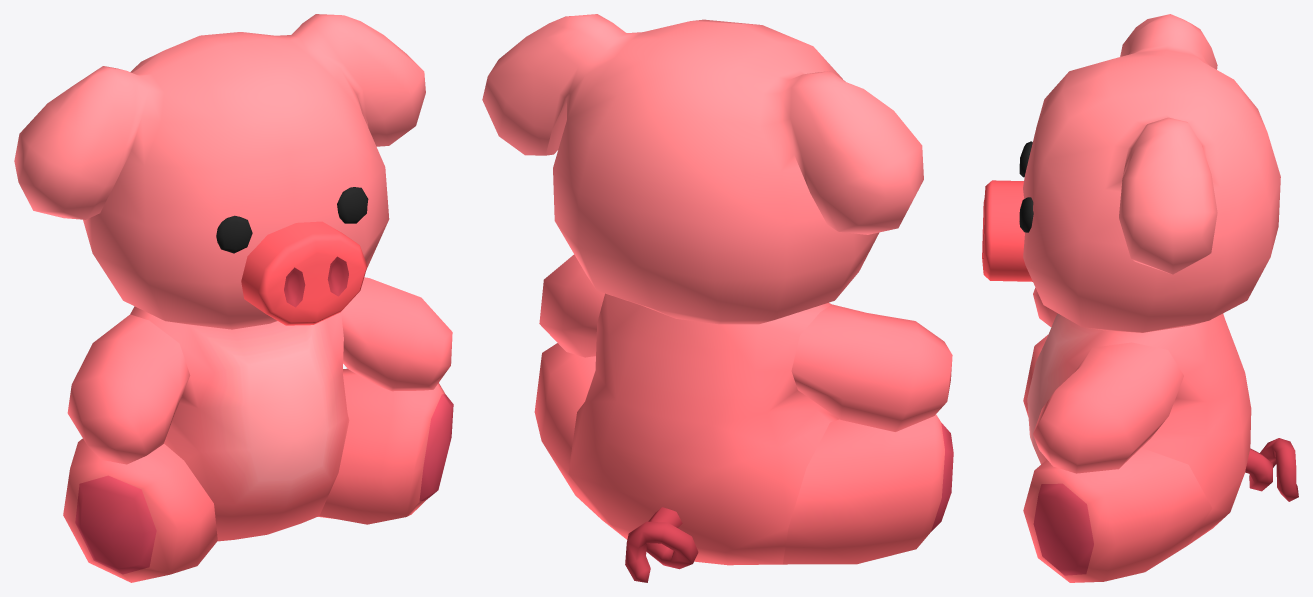
Rendered from pig.glb.
3 renders of one model, left to right at view 1: azimuth 30°, elevation 25°; view 2: azimuth 150°, elevation 25°; view 3: azimuth 270°, elevation 25°, orthographic. The views are drawn at different scales.
Visible parts, largest first — view 1: Pig_01; view 2: Pig_01; view 3: Pig_01.
Boxes of the visible parts, left/top/right/bottom form: Pig_01: left=14, top=14, right=453, bottom=582; Pig_01: left=482, top=14, right=953, bottom=582; Pig_01: left=982, top=14, right=1298, bottom=582.
Size of the model in its own units: 0.3523 by 0.4028 by 0.2534.
2 materials, 2 textured.
